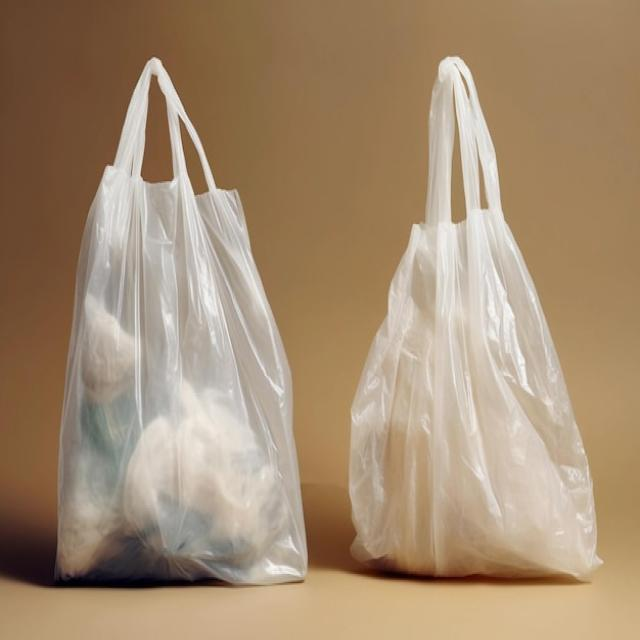plastic_bag: (39, 32, 341, 629), (335, 40, 639, 613)
